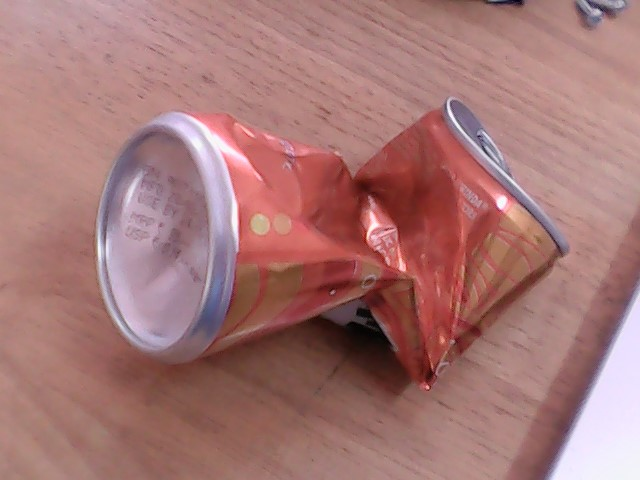Metal: (87, 118, 556, 373)
